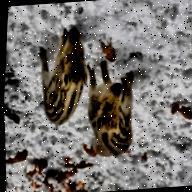boar: (33, 27, 93, 127), (81, 60, 140, 161)
